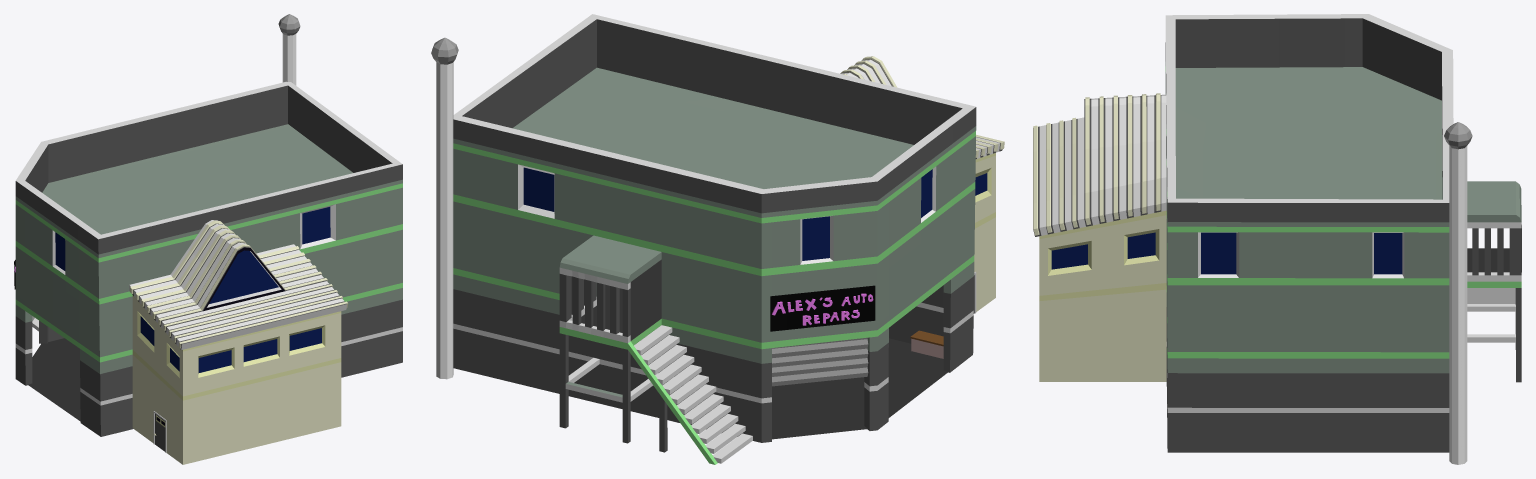
Rendered from AlexBuildingV6.fbx.
The picture shows the model from 3 angles, left to right: view 1: azimuth 30°, elevation 25°; view 2: azimuth 150°, elevation 25°; view 3: azimuth 270°, elevation 25°; orthographic projection. The views are drawn at different scales.
Visible parts, largest first — view 1: Alex Building; view 2: Alex Building; view 3: Alex Building.
Part boxes in pixels (bbox=[...]): Alex Building: bbox=[14, 14, 402, 464]; Alex Building: bbox=[431, 14, 1004, 464]; Alex Building: bbox=[1033, 14, 1521, 464].
Size of the model in its own units: 5400 by 5128 by 4136.
